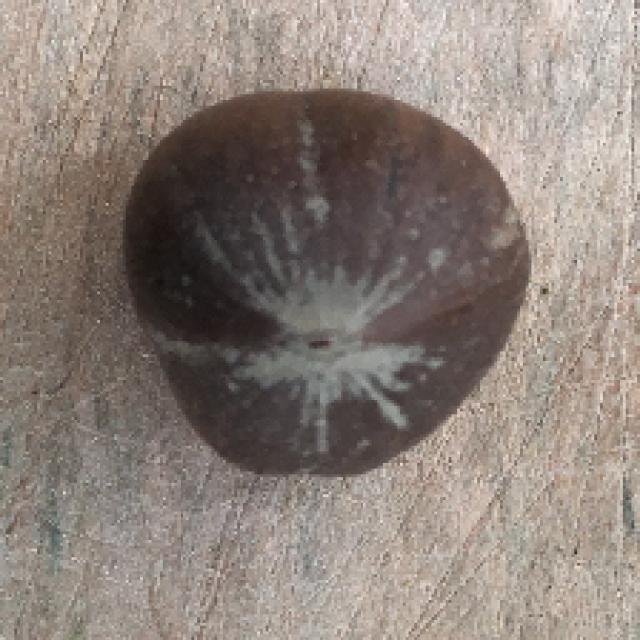DamagedHazelnut: (120, 87, 528, 483)
